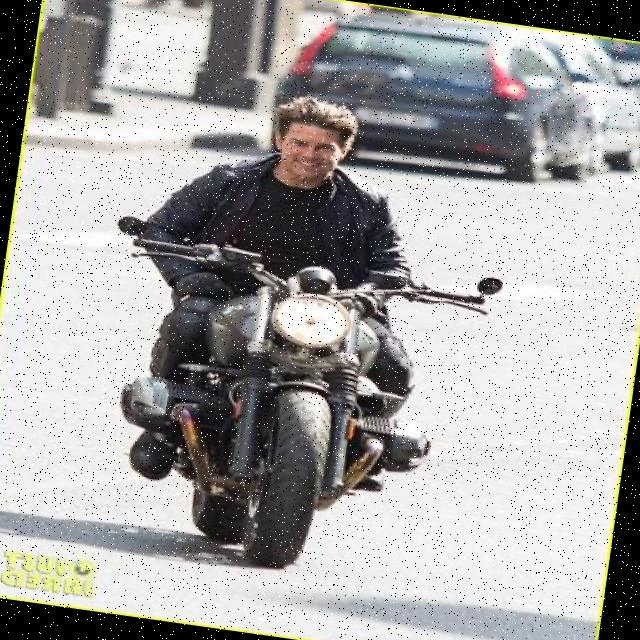No helmet: (262, 96, 372, 206)
